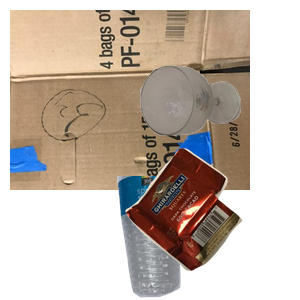cardboard: (10, 10, 250, 190)
glass: (138, 63, 300, 191)
plastic: (115, 176, 288, 300)
trash: (123, 145, 300, 300)
